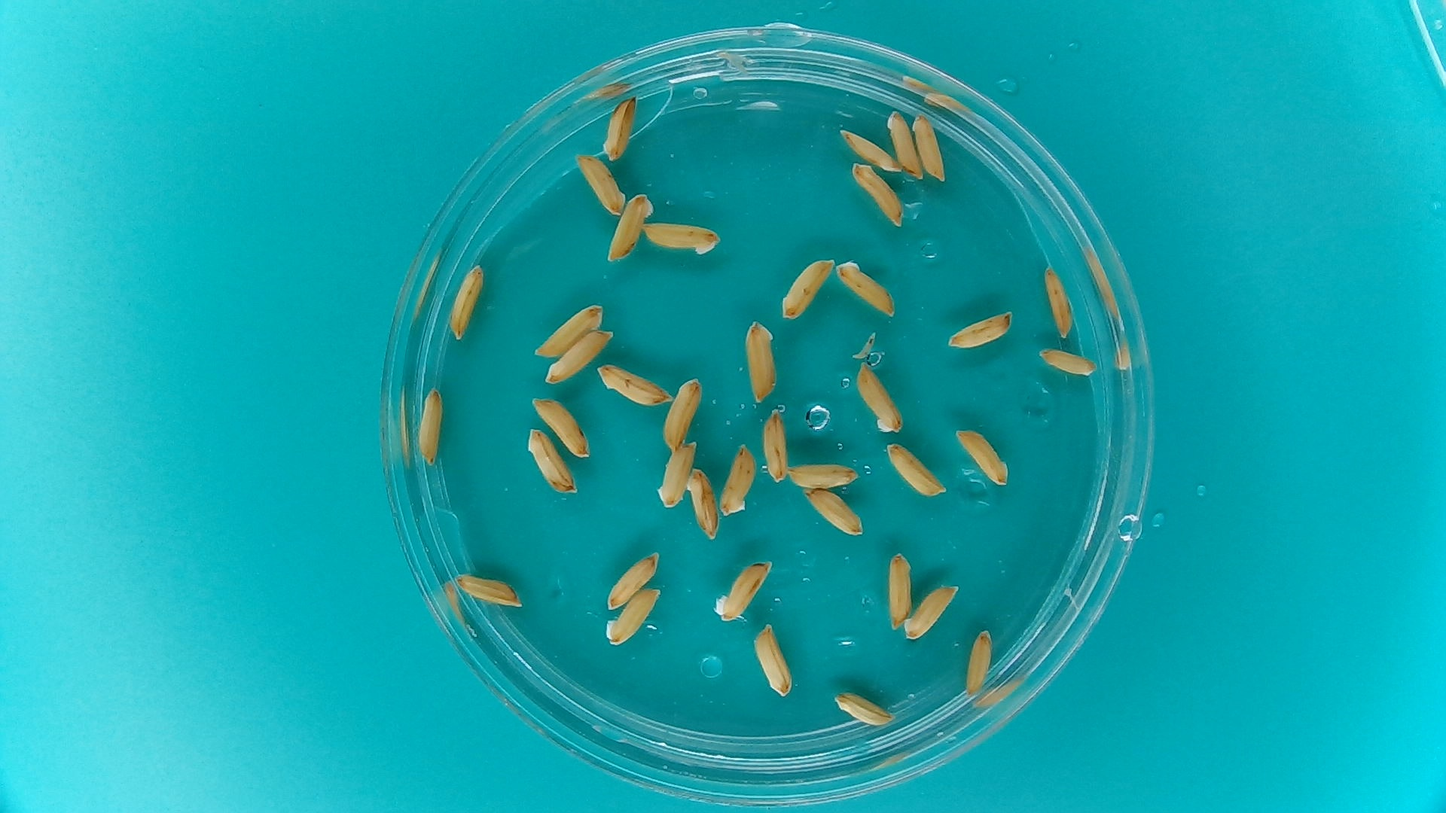no: (531, 299, 606, 361), (544, 327, 615, 388), (529, 396, 593, 461), (710, 558, 774, 623), (850, 159, 906, 230), (525, 426, 581, 497), (779, 257, 840, 322), (884, 437, 948, 498), (902, 582, 963, 644), (853, 361, 904, 434), (835, 258, 895, 319), (604, 586, 662, 649), (798, 486, 865, 540), (573, 150, 626, 218), (606, 193, 657, 263), (596, 363, 676, 407), (837, 125, 906, 175), (661, 376, 704, 455), (606, 550, 661, 611), (751, 623, 795, 699), (655, 440, 699, 512), (446, 264, 486, 343), (954, 429, 1009, 486), (743, 319, 780, 403), (718, 442, 758, 519), (884, 108, 925, 183), (685, 464, 723, 542), (453, 571, 527, 611), (639, 222, 721, 258), (946, 309, 1018, 350), (601, 93, 639, 163), (912, 112, 947, 187), (1041, 265, 1075, 340), (885, 548, 915, 632), (780, 461, 863, 491), (963, 626, 997, 699), (415, 385, 445, 467), (831, 690, 898, 726), (762, 406, 790, 483), (1036, 344, 1099, 378)
